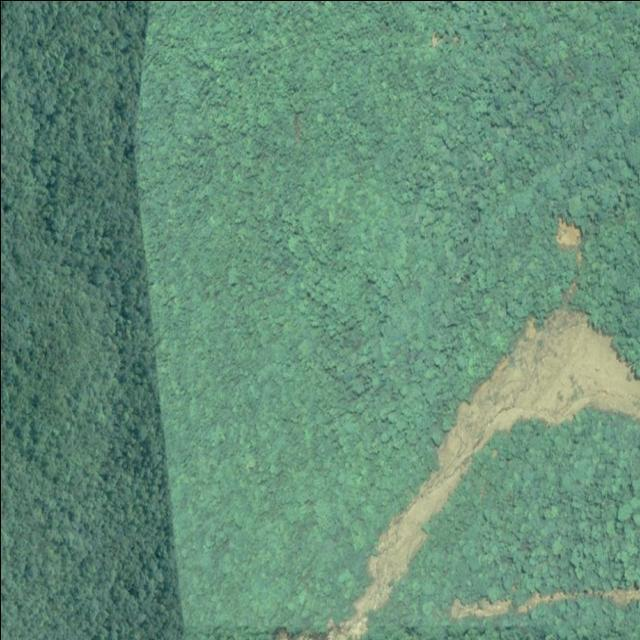landslide: (329, 309, 640, 640)
